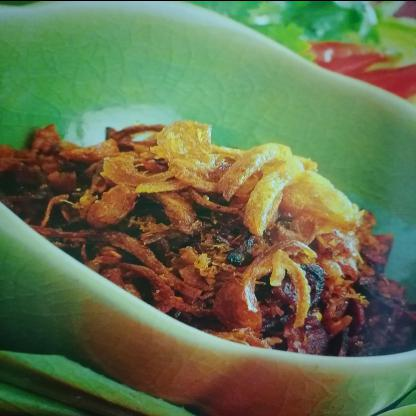Namprig: (5, 84, 415, 368)
